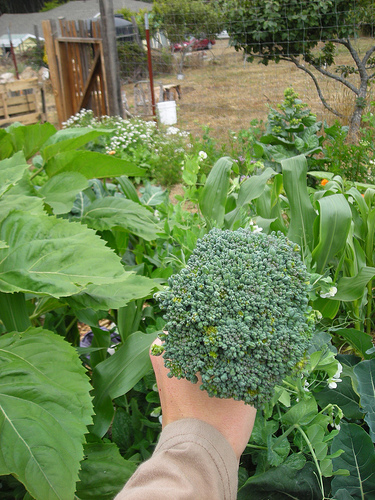broccoli: (147, 228, 318, 406)
